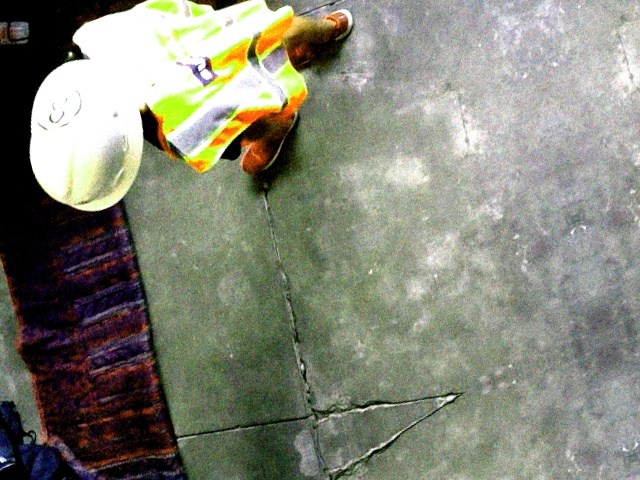eight: (31, 81, 85, 135)
